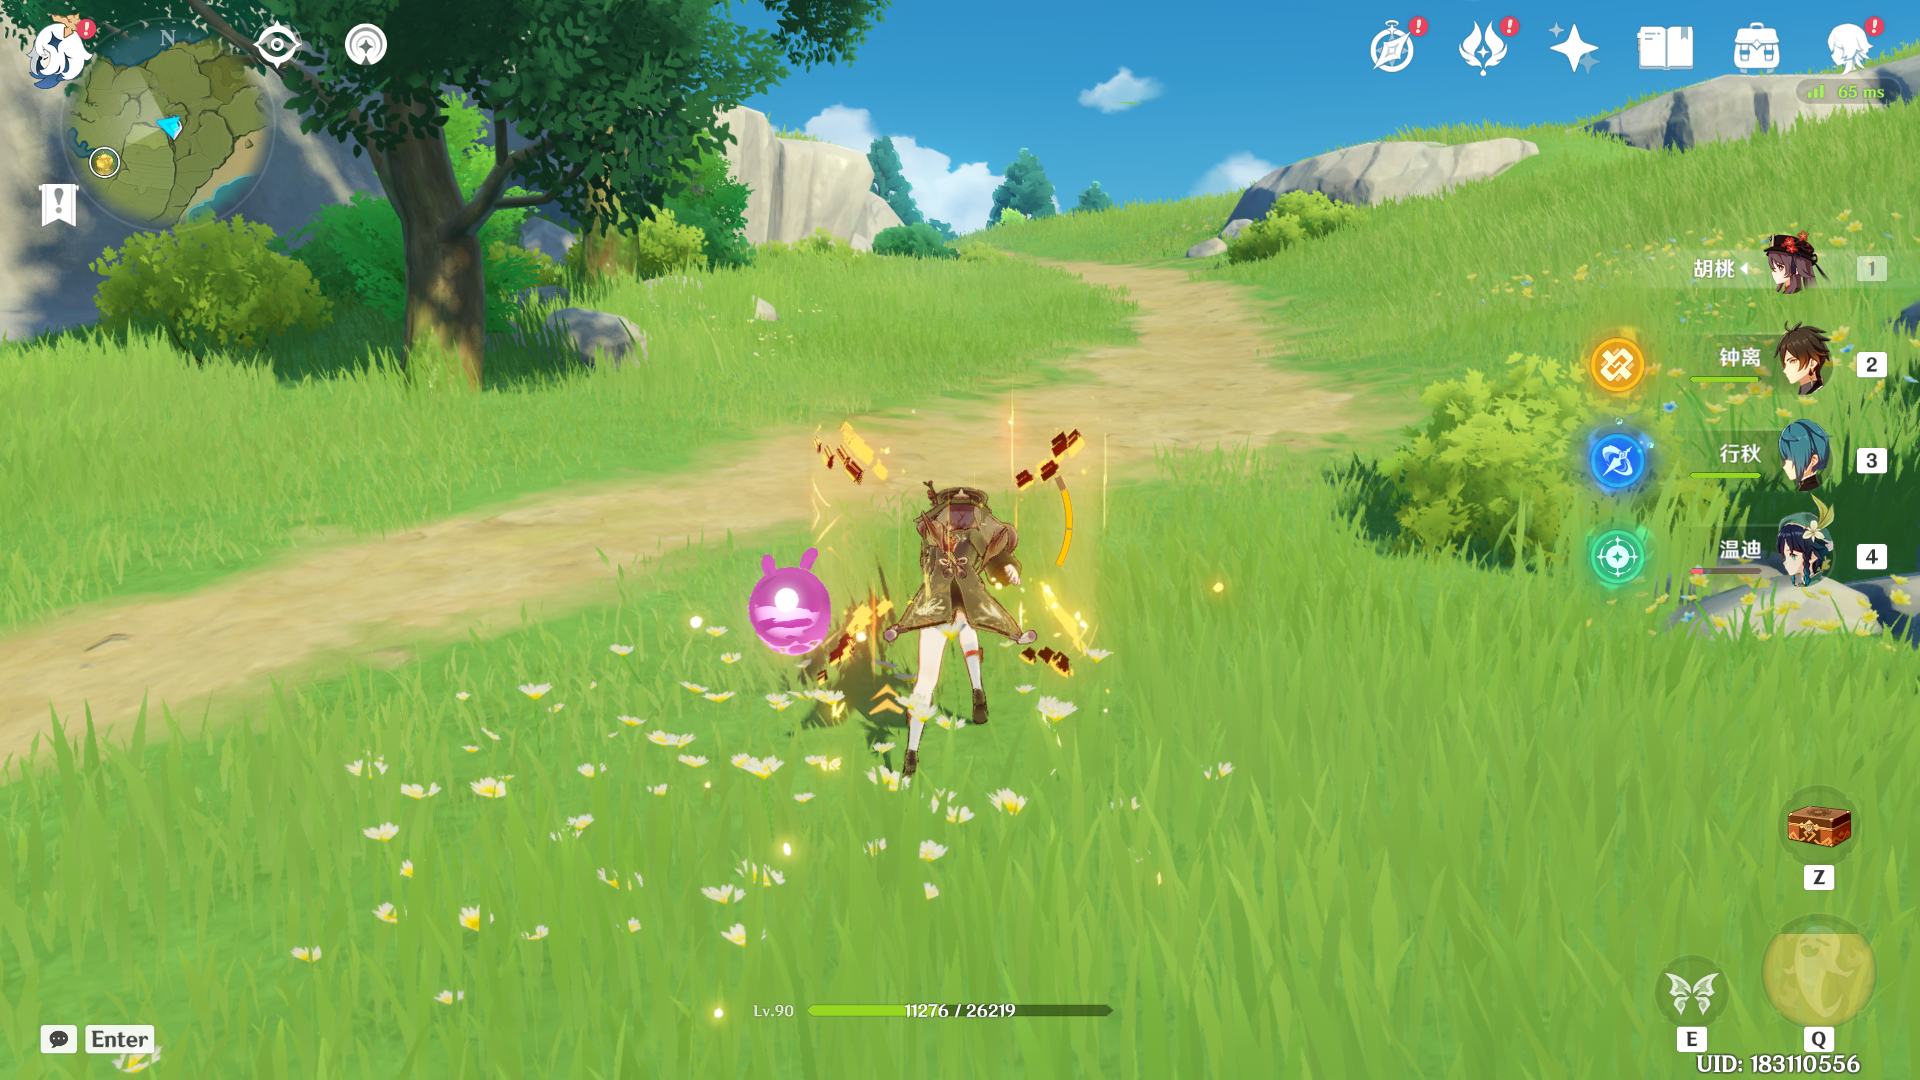character: (789, 417, 1098, 806)
